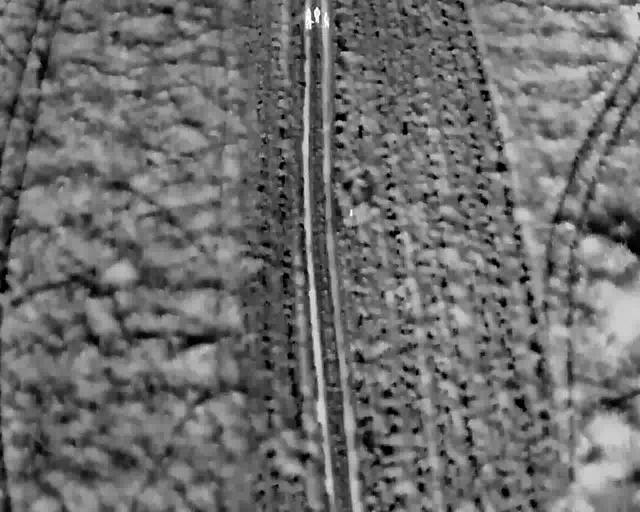person: (322, 10, 332, 29), (312, 5, 322, 24), (305, 13, 315, 32), (303, 6, 313, 25)
